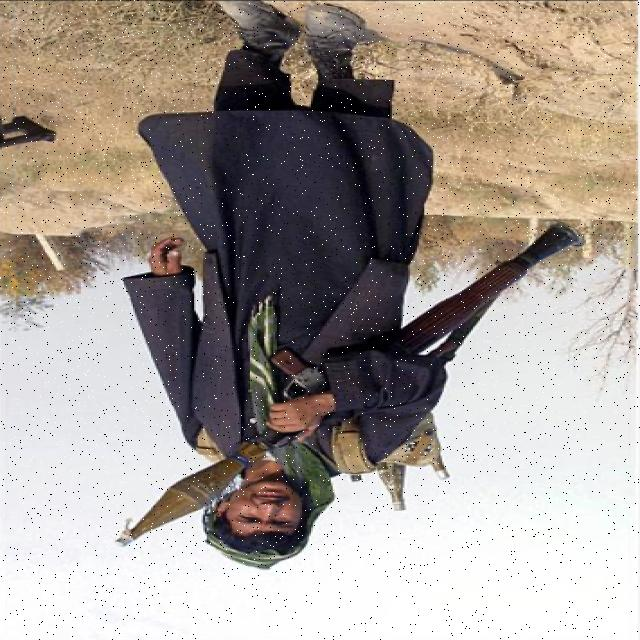bazooka: (107, 214, 591, 561)
